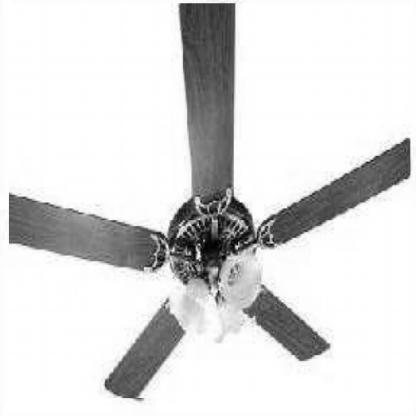ceiling-fan: (9, 3, 411, 399)
